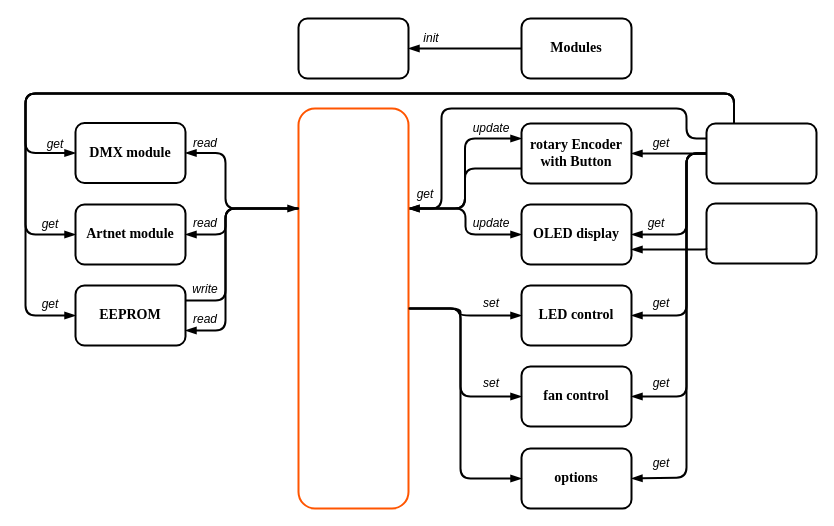
Image size: 834x526. Some labels were removed from this diagram. The shapes that lost their labels are listed below. From the top down, each one's centre as x and y in pixels, then its label:
(x=353, y=48): Setup
(x=761, y=153): Helper classes & config
(x=761, y=233): Bitmaps
(x=353, y=308): Main
